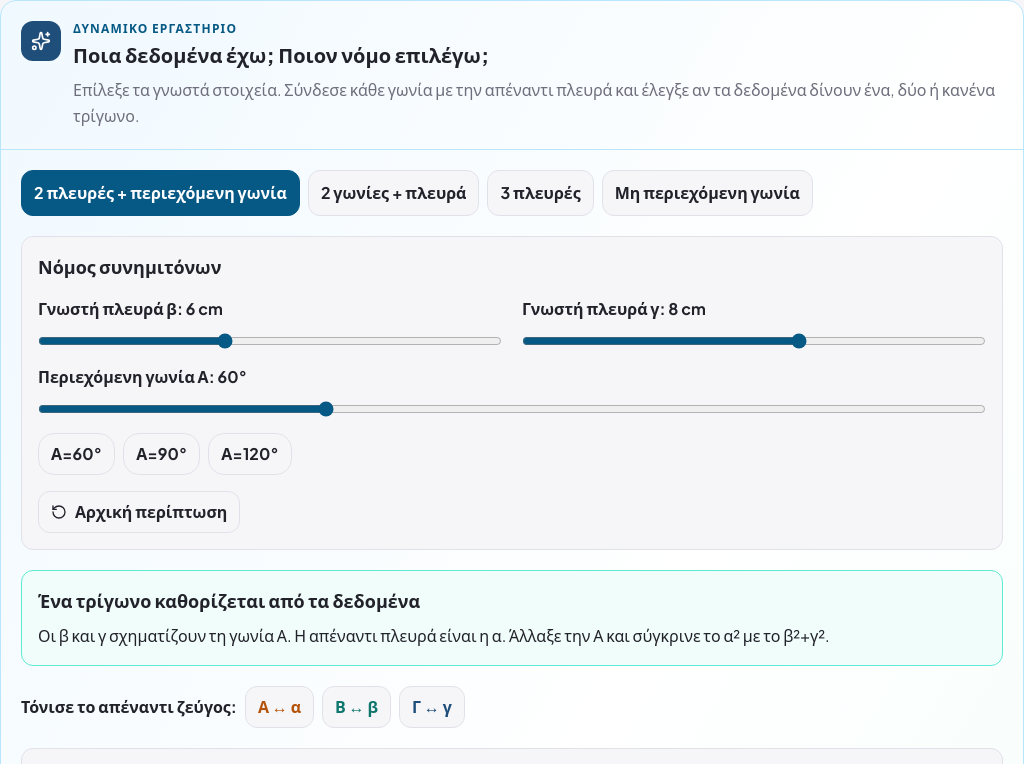
triangle-law lesson presentation › removes the diagram for invalid lengths and restores it after reset
What coordinates should you click on to do the following:
click the button "3 πλευρές"
I would click on:
 (541, 193)
Its box is [488,170,594,216].
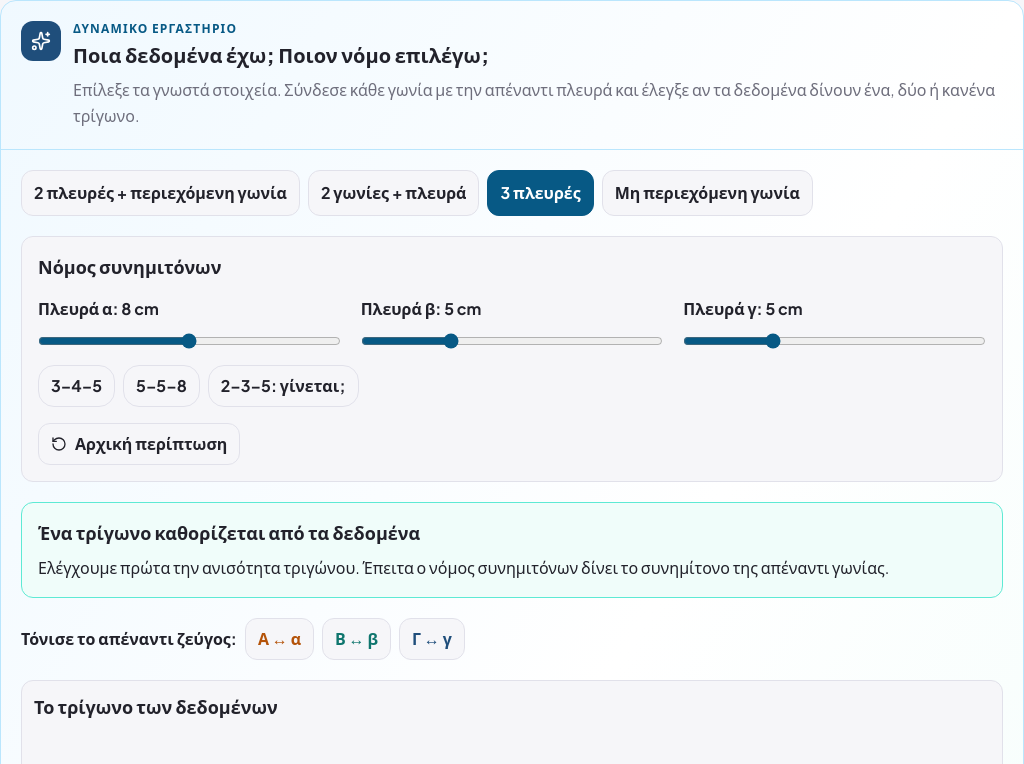
What coordinates should you click on to do the following:
click the button "2–3–5: γίνεται;"
I would click on:
 (283, 386)
Its box is [208,365,358,407].
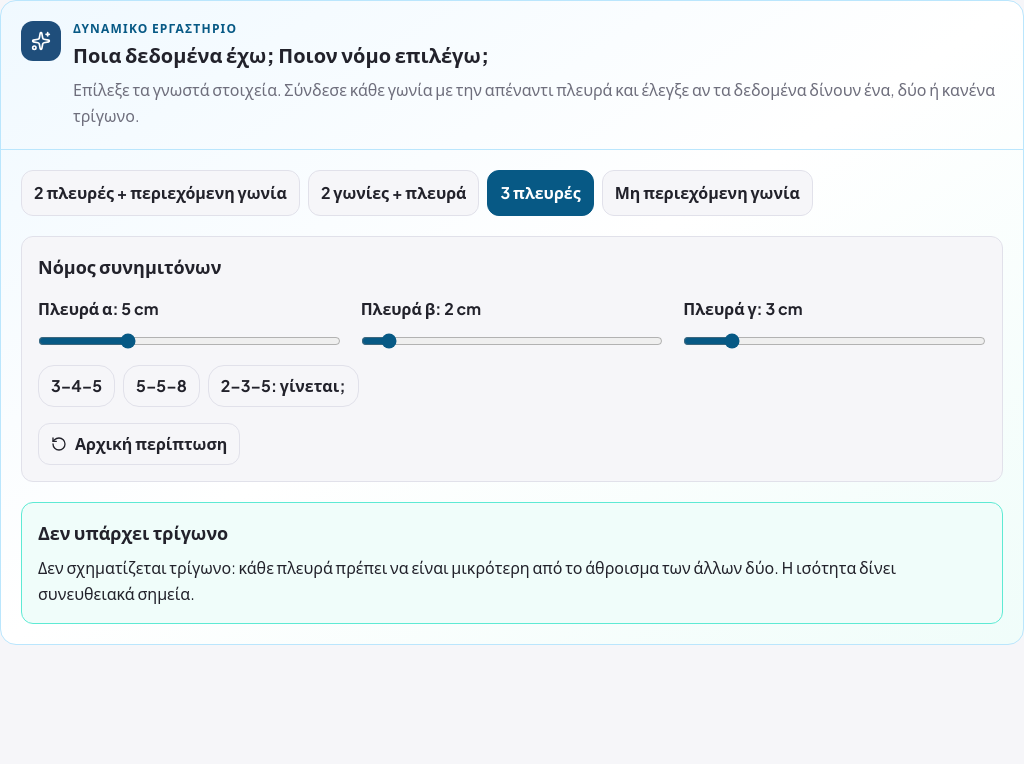
Check: the message shows "Δεν υπάρχει τρίγωνο", box [38,521,228,544]
Check: no pictures are shown
What coordinates should you click on to do the following:
click the button "Αρχική περίπτωση"
I would click on:
 (139, 444)
Its box is [38,423,240,465].
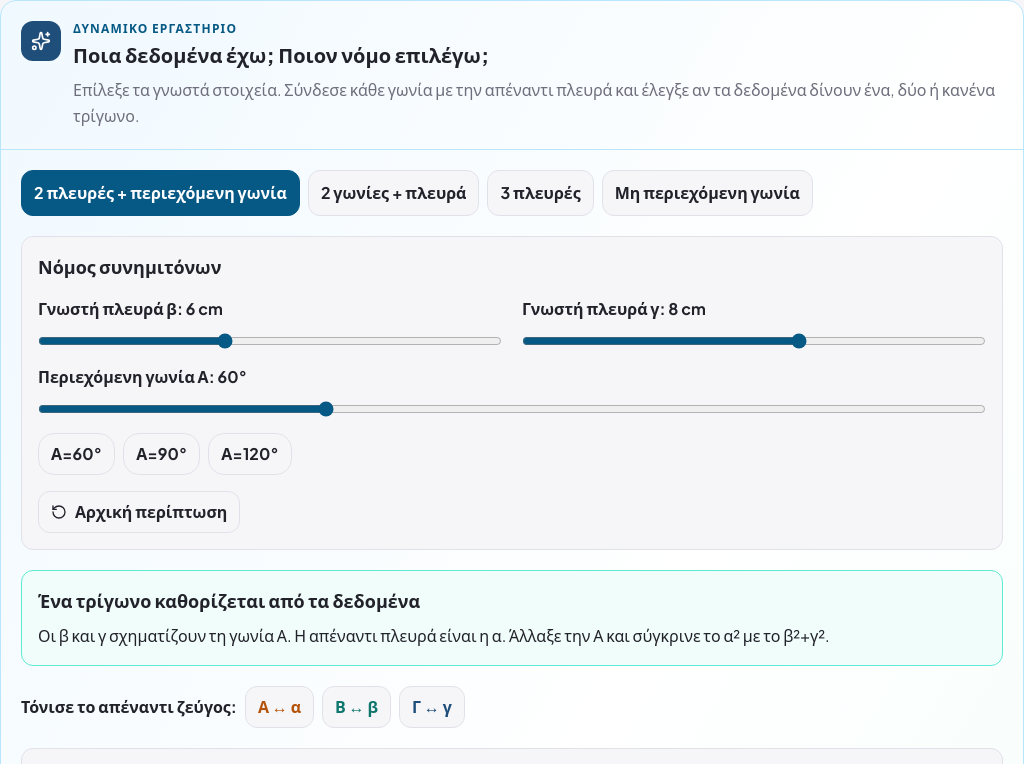
Check: the message shows "Ένα τρίγωνο", box [38,589,420,612]
